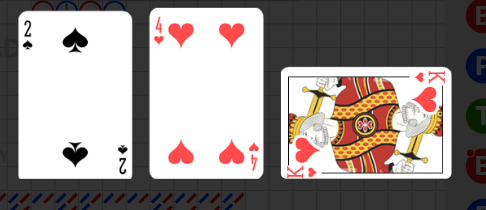2S: (116, 142, 129, 175)
4H: (247, 141, 260, 171)
KH: (413, 69, 447, 85)
